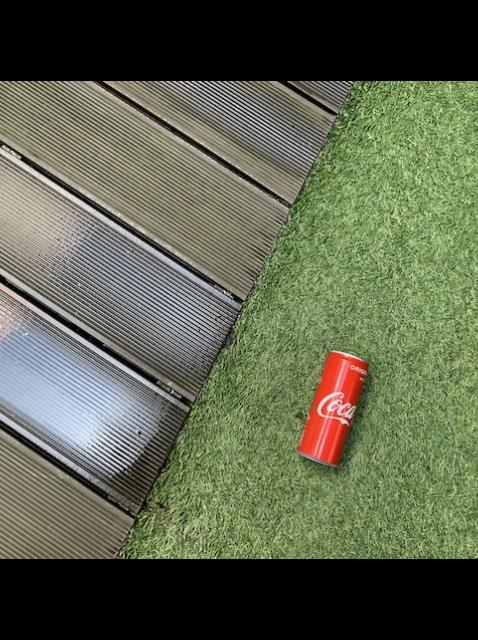metal: (297, 352, 367, 465)
